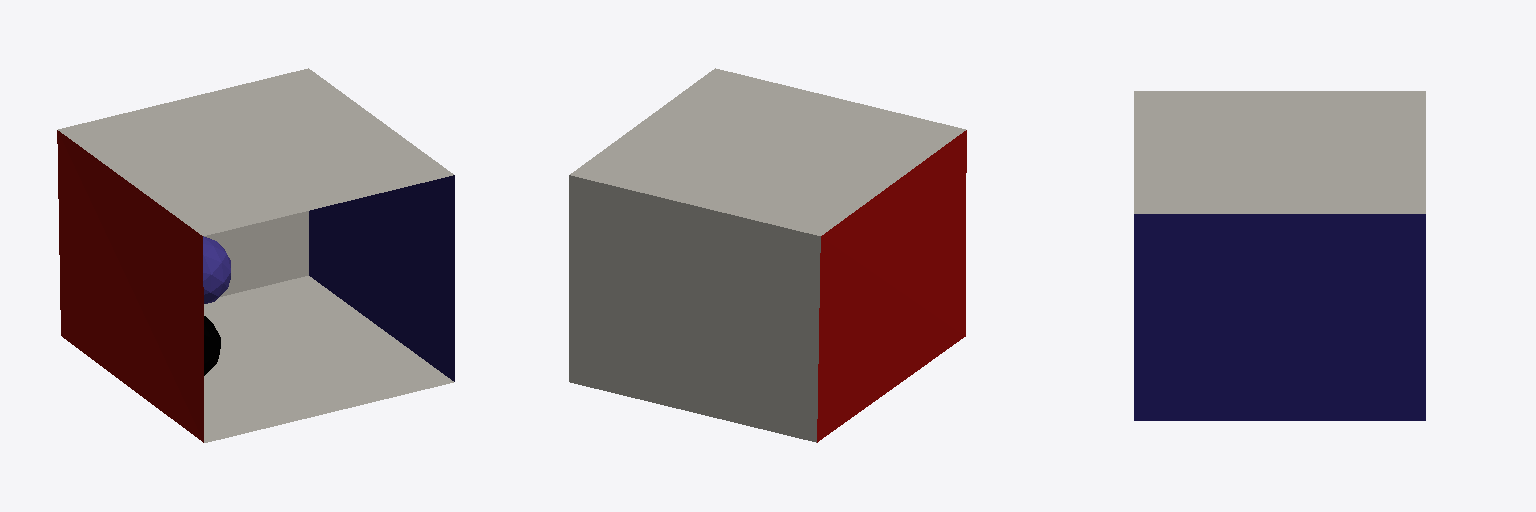
The model's file is CornellBox-Sphere-123.obj.
3 renders of one model, left to right at view 1: azimuth 30°, elevation 25°; view 2: azimuth 150°, elevation 25°; view 3: azimuth 270°, elevation 25°, orthographic.
Parts seen in each view (by area): view 1: ceiling, leftWall, floor, rightWall, backWall, leftSphere, rightSphere; view 2: backWall, ceiling, leftWall; view 3: rightWall, ceiling.
Part boxes in pixels (left/top/right/bottom): ceiling: left=58, top=68, right=453, bottom=235; leftWall: left=57, top=130, right=203, bottom=442; floor: left=204, top=276, right=453, bottom=442; rightWall: left=309, top=175, right=454, bottom=381; backWall: left=204, top=211, right=308, bottom=296; leftSphere: left=203, top=236, right=230, bottom=303; rightSphere: left=204, top=316, right=220, bottom=375; backWall: left=569, top=175, right=820, bottom=442; ceiling: left=570, top=68, right=965, bottom=235; leftWall: left=817, top=130, right=966, bottom=442; rightWall: left=1134, top=214, right=1425, bottom=420; ceiling: left=1134, top=91, right=1425, bottom=213.
Bounding box in the file's own units: 2.02 × 1.59 × 2.03.